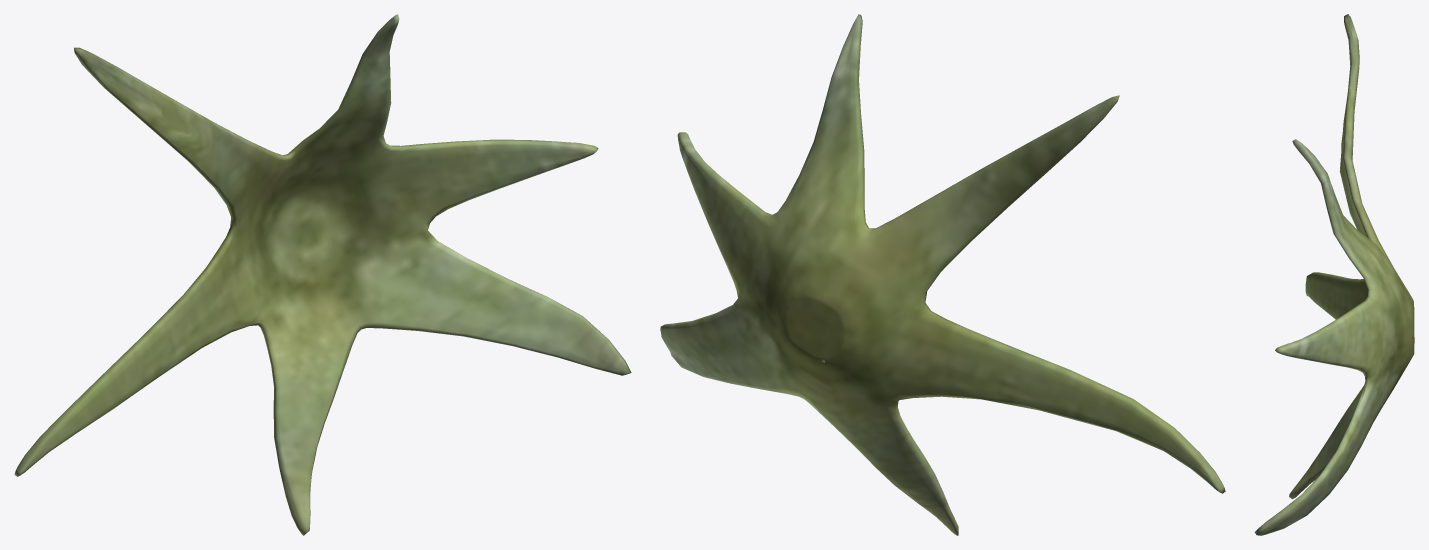
File: GreenTomatoCalyx.obj
3 views of the same model, side by side, from view 1: azimuth 30°, elevation 25°; view 2: azimuth 150°, elevation 25°; view 3: azimuth 270°, elevation 25° (orthographic). The views are drawn at different scales.
Visible parts, largest first — view 1: GreenTomatoCalyx; view 2: GreenTomatoCalyx; view 3: GreenTomatoCalyx.
Part boxes in pixels (<box>): GreenTomatoCalyx: <box>14,14,631,535</box>; GreenTomatoCalyx: <box>660,14,1225,535</box>; GreenTomatoCalyx: <box>1254,14,1414,535</box>.
Bounding box in the file's own units: 0.0555 × 0.0465 × 0.0165.
Materials: 1 (1 with a texture image).
